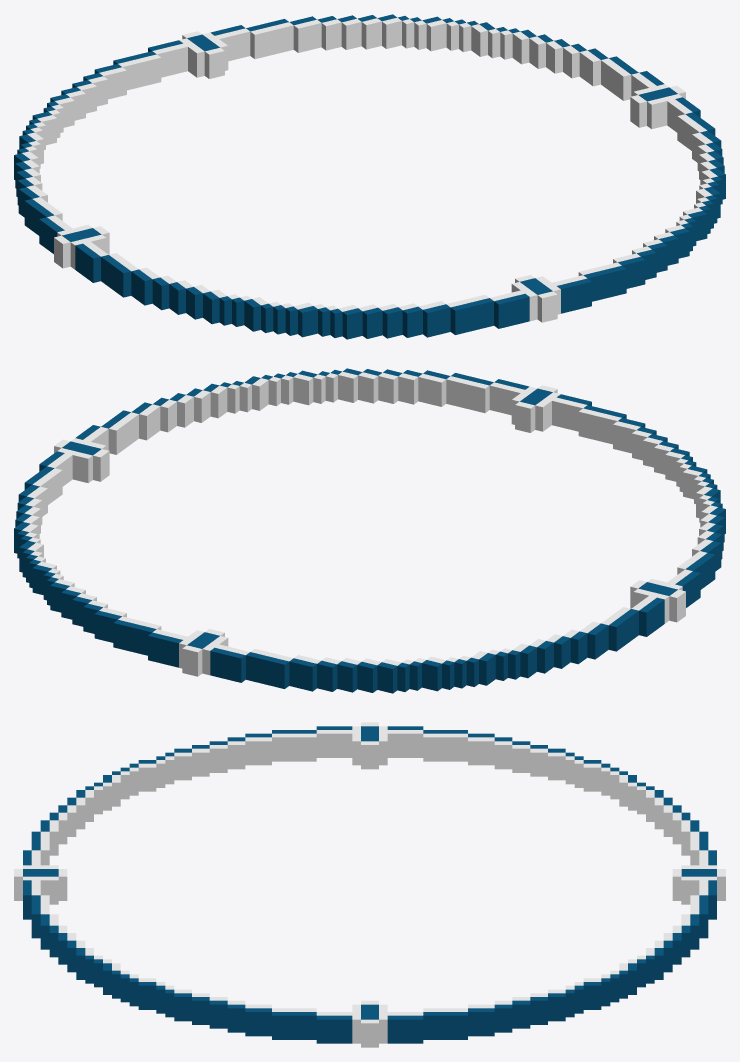
The model's file is capture_marker.obj.
The picture shows the model from 3 angles, top to bottom: view 1: azimuth 30°, elevation 25°; view 2: azimuth 150°, elevation 25°; view 3: azimuth 270°, elevation 25°; orthographic projection.
Size of the model in its own units: 8 by 0.3 by 8.
Materials: 1 (1 with a texture image).
